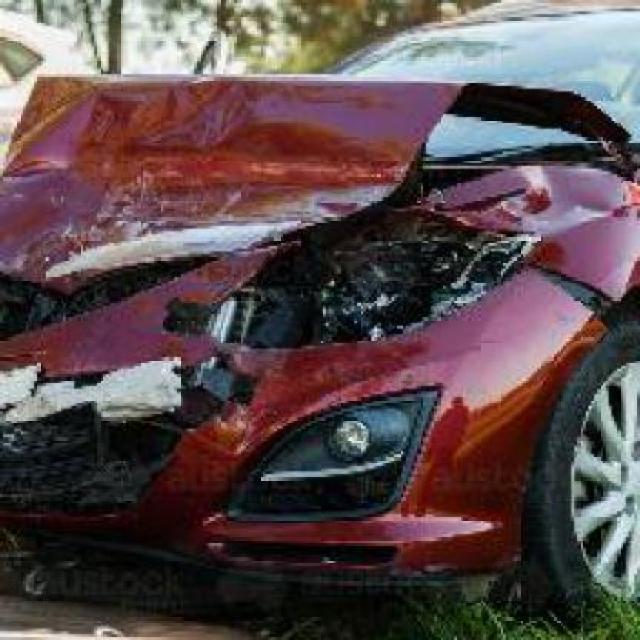damaged-front-bumper: (0, 320, 506, 588)
damaged-head-light: (248, 202, 532, 362)
damaged-hood: (0, 71, 617, 282)
